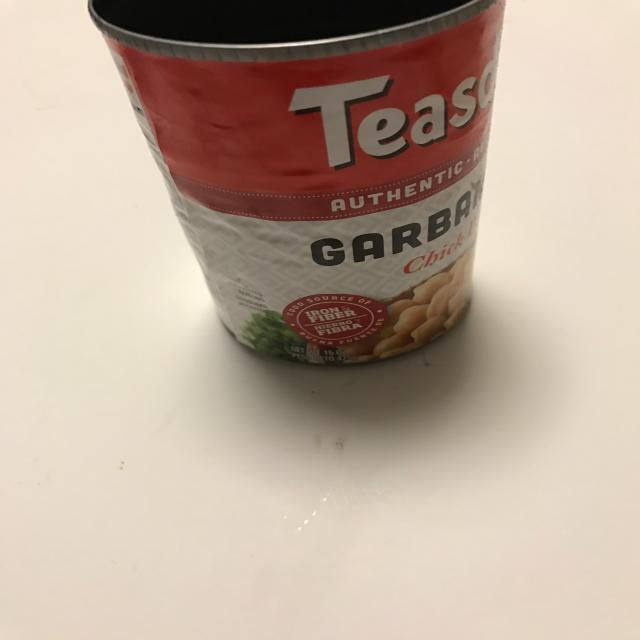metal: (85, 2, 508, 372)
